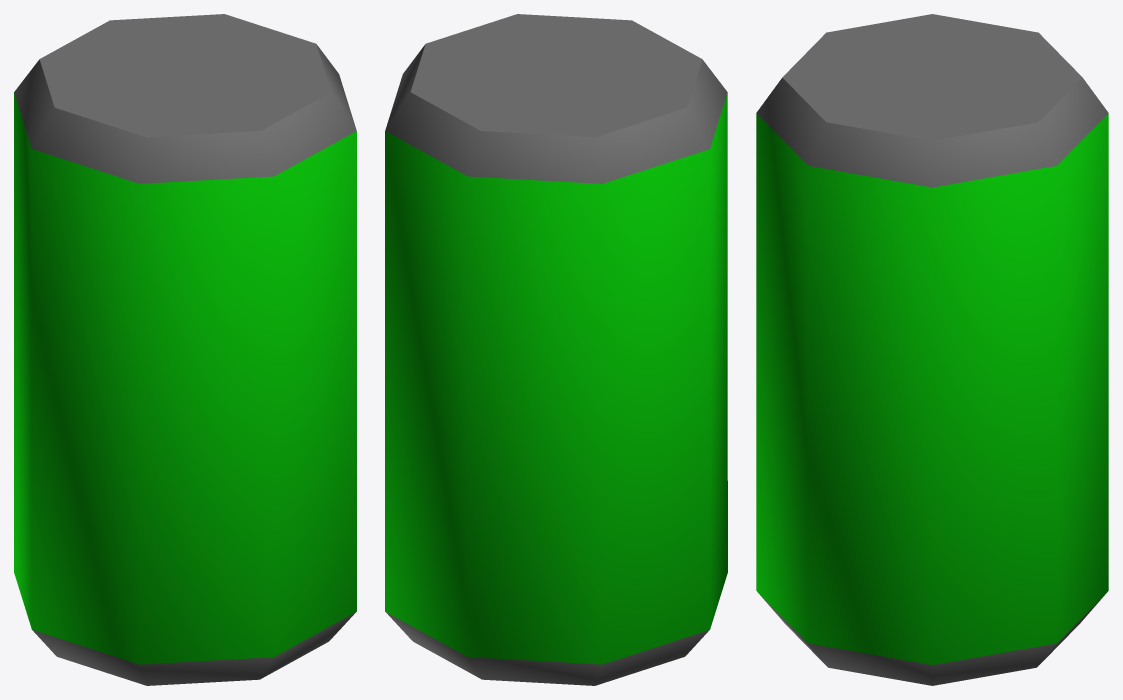
File: House_Kitchen_Goodies_fridge_popCan.FBX
3 renders of one model, left to right at view 1: azimuth 30°, elevation 25°; view 2: azimuth 150°, elevation 25°; view 3: azimuth 270°, elevation 25°, orthographic.
Parts seen in each view (by area): view 1: House_Kitchen_Goodies_fridge_popCan; view 2: House_Kitchen_Goodies_fridge_popCan; view 3: House_Kitchen_Goodies_fridge_popCan.
Boxes of the visible parts, <box> form: House_Kitchen_Goodies_fridge_popCan: <box>14,14,356,685</box>; House_Kitchen_Goodies_fridge_popCan: <box>385,14,727,685</box>; House_Kitchen_Goodies_fridge_popCan: <box>756,14,1108,685</box>.
Bounding box in the file's own units: 23.09 × 39.46 × 23.09.
